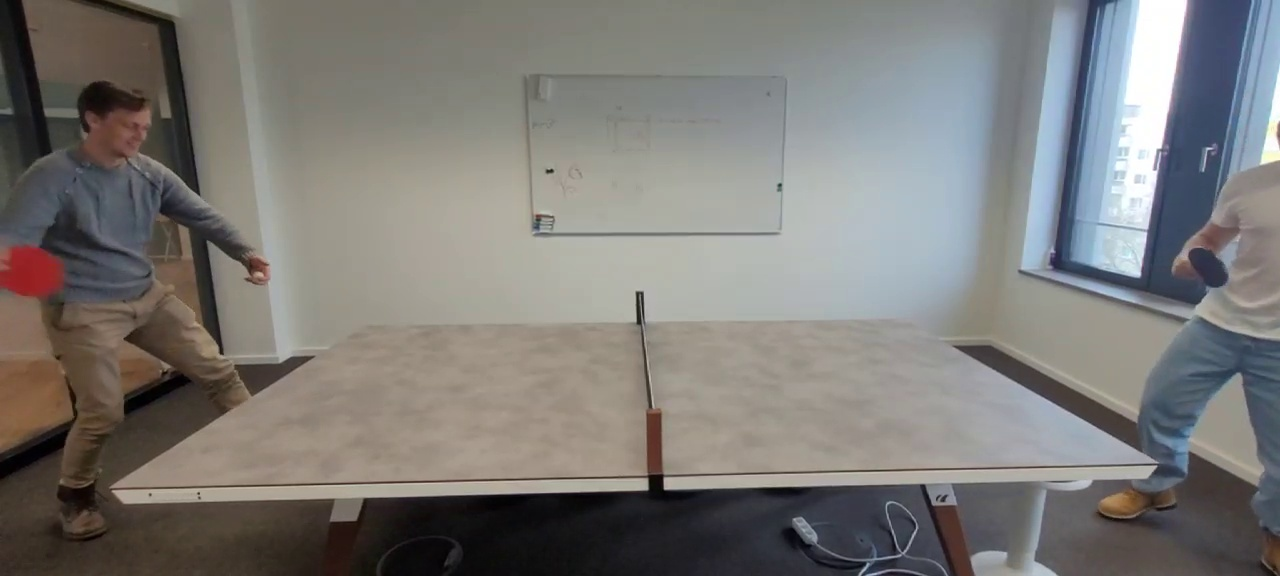1: (1, 245, 62, 295), (1189, 246, 1228, 288)
2: (253, 271, 264, 277)
ttplatte: (110, 318, 1156, 487)
